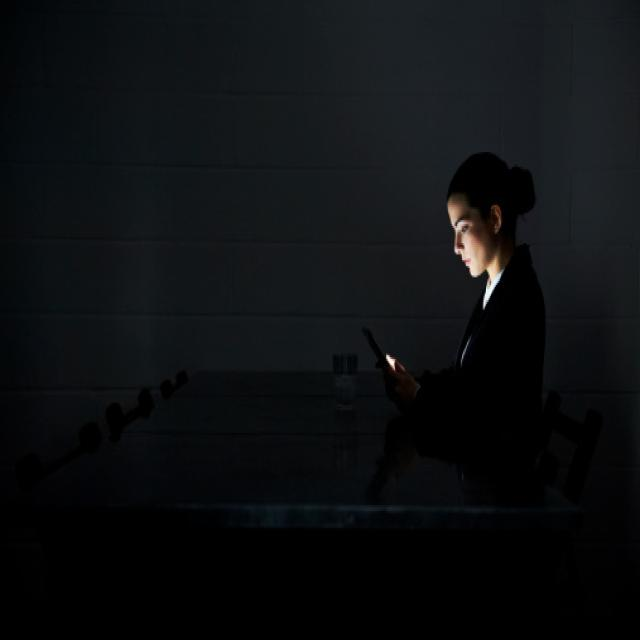People: (432, 135, 559, 508)
Table: (89, 338, 623, 640)
